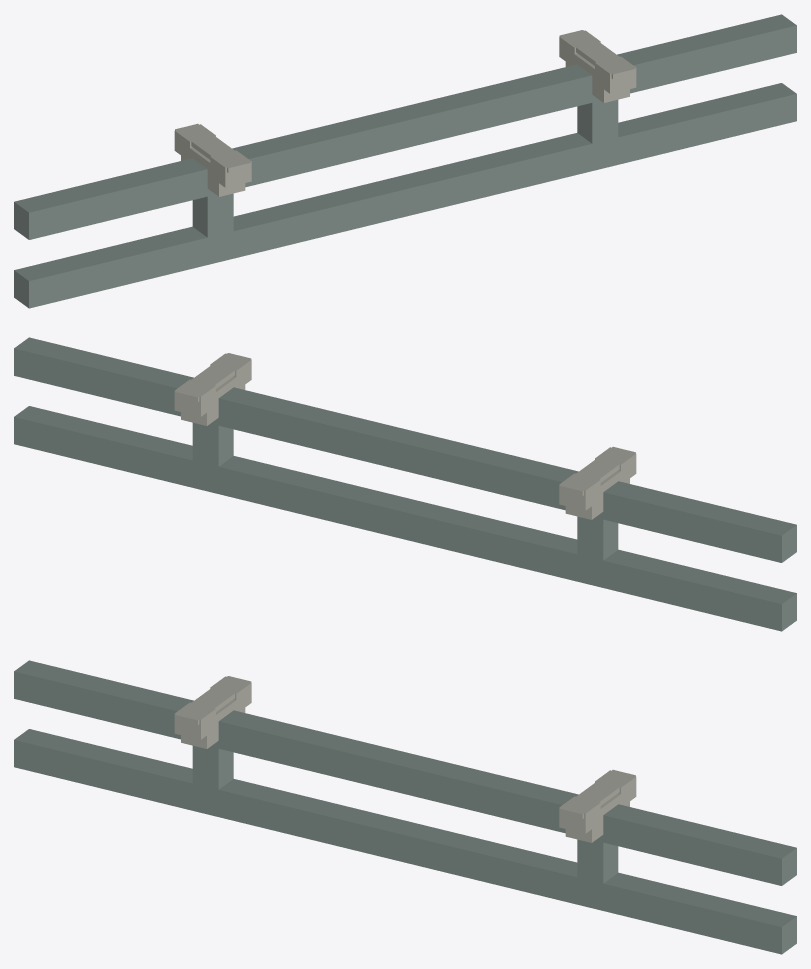
File: SM_CatenariaLosa_v1_Flexible_LOD1.fbx
3 renders of one model, top to bottom at view 1: azimuth 30°, elevation 25°; view 2: azimuth 150°, elevation 25°; view 3: azimuth 330°, elevation 25°, orthographic.
Visible parts, largest first — view 1: SM_catenaria_losa_v1_LOD1; view 2: SM_catenaria_losa_v1_LOD1; view 3: SM_catenaria_losa_v1_LOD1.
Part boxes in pixels (left/top/right/bottom): SM_catenaria_losa_v1_LOD1: left=14, top=14, right=796, bottom=308; SM_catenaria_losa_v1_LOD1: left=14, top=337, right=796, bottom=631; SM_catenaria_losa_v1_LOD1: left=14, top=660, right=796, bottom=954.
Size of the model in its own units: 9.98 by 1.37 by 1.2.
